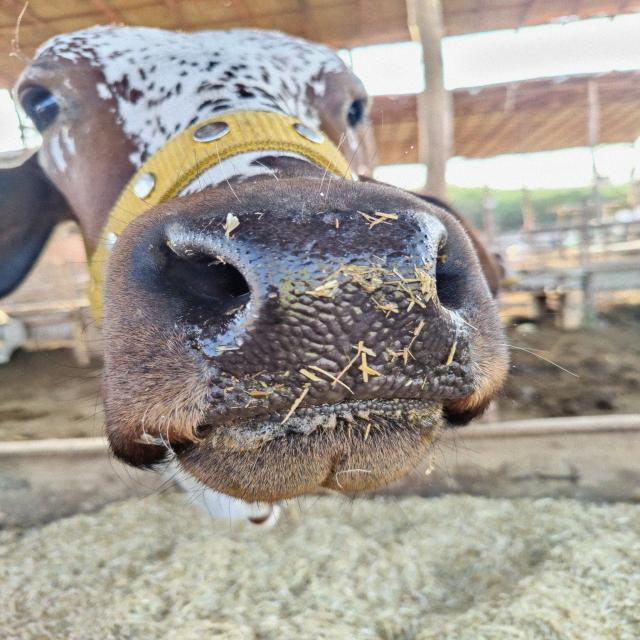muzzles: (143, 197, 496, 428)
